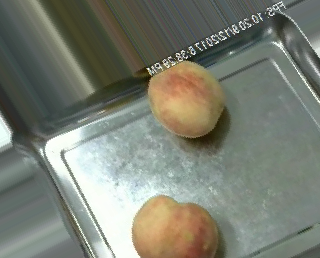Peach: (145, 60, 224, 137), (130, 193, 220, 257)
